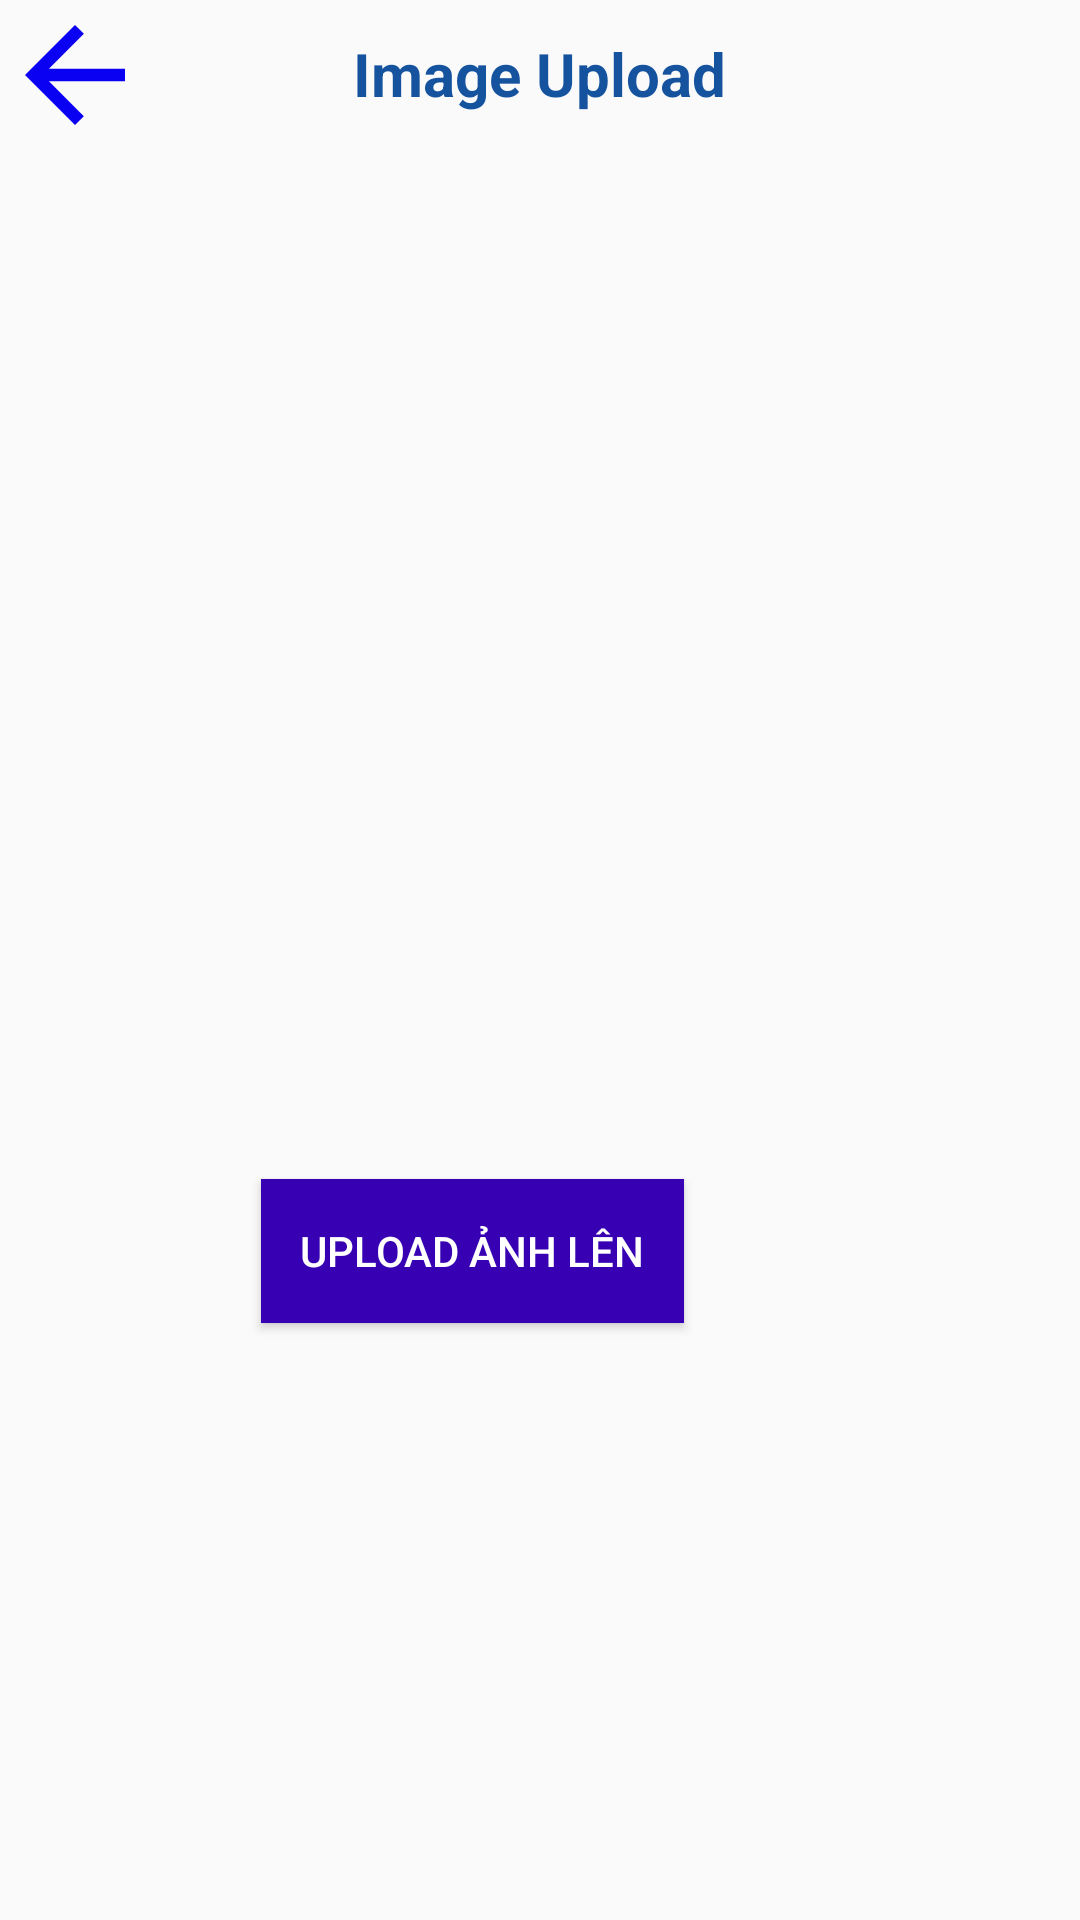

Named icons in this screenshot (1080px×1920px) and their bounding boxes, (x1, y1, x2, y2):
arrow back: (25, 25, 125, 125)
